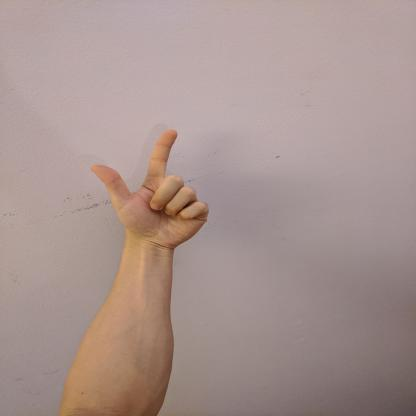L: (86, 126, 212, 250)
